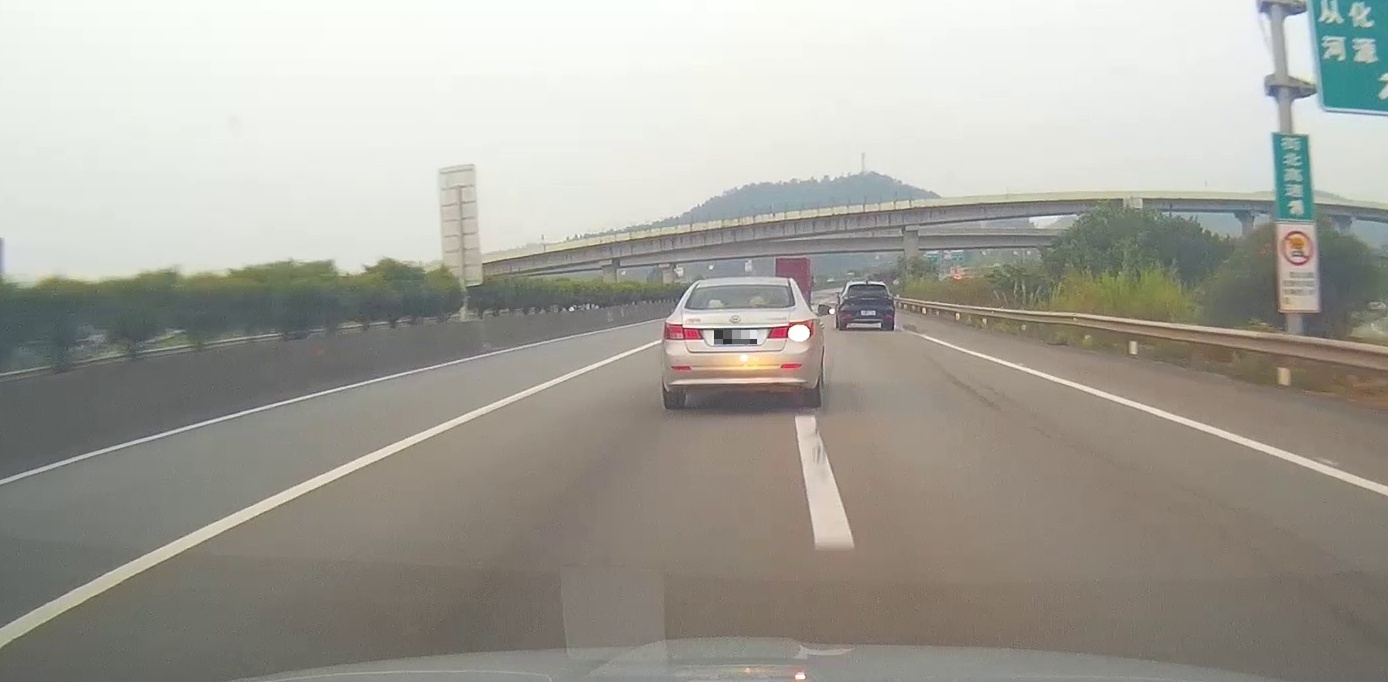L_light: (663, 322, 702, 340), (842, 295, 855, 300)
R_light: (767, 320, 815, 340), (881, 294, 893, 300)
T_light: (726, 302, 747, 308), (862, 284, 873, 287)
day-no: (839, 282, 894, 330)
day-right: (661, 276, 825, 409)
plate_1: (714, 330, 757, 344)
